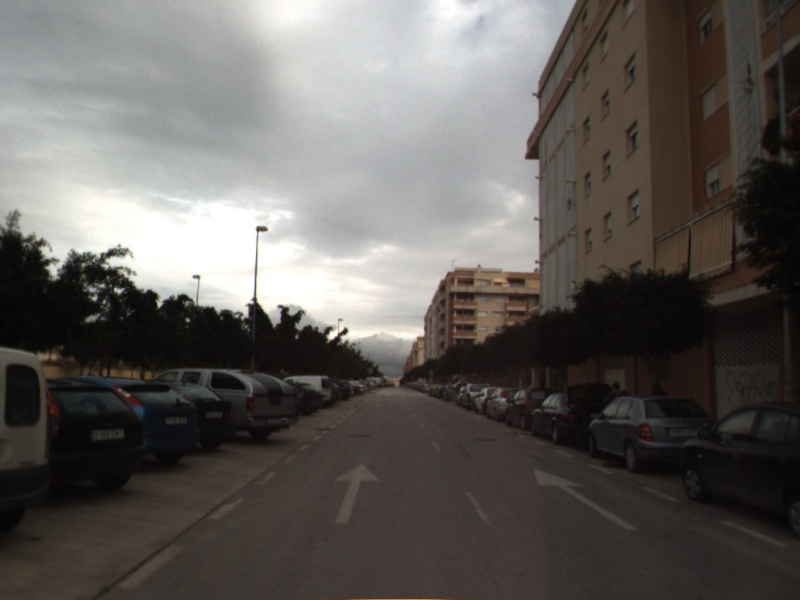STRAIGHT: (532, 466, 640, 532), (332, 461, 381, 525)
